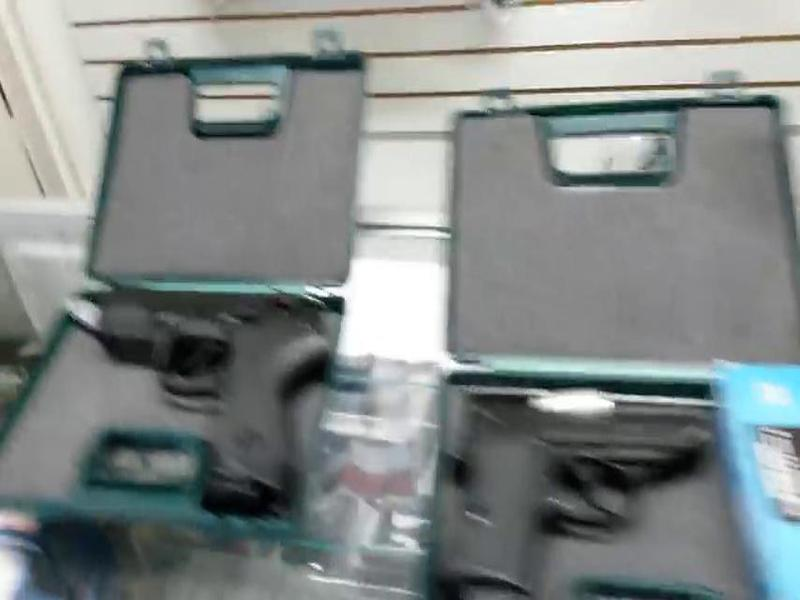Pistola: (82, 286, 369, 520), (447, 388, 718, 600)
